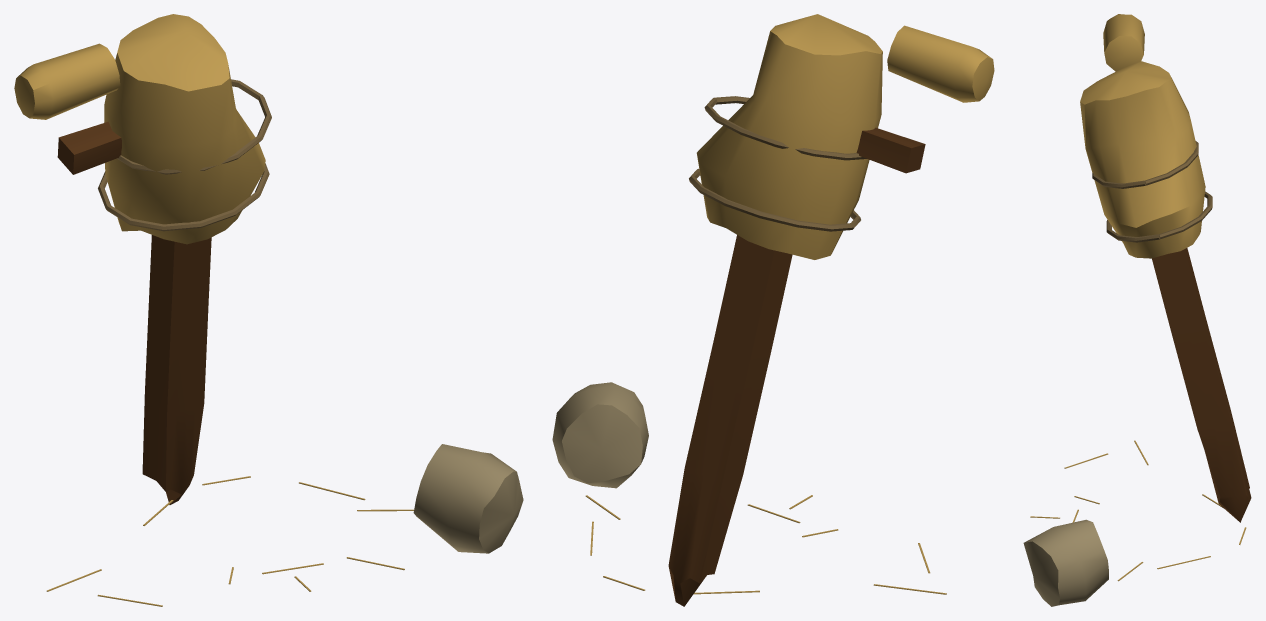
The model's file is trainingspuppe_kaputt.glb.
3 views of the same model, side by side, from view 1: azimuth 30°, elevation 25°; view 2: azimuth 150°, elevation 25°; view 3: azimuth 270°, elevation 25° (orthographic). The views are drawn at different scales.
Parts seen in each view (by area): view 1: trainingspuppe_kaputt; view 2: trainingspuppe_kaputt; view 3: trainingspuppe_kaputt.
Part boxes in pixels (bbox=[...]): trainingspuppe_kaputt: bbox=[14, 14, 523, 606]; trainingspuppe_kaputt: bbox=[552, 14, 994, 606]; trainingspuppe_kaputt: bbox=[1023, 14, 1251, 606].
Size of the model in its own units: 1.22 by 1.41 by 0.6631.
